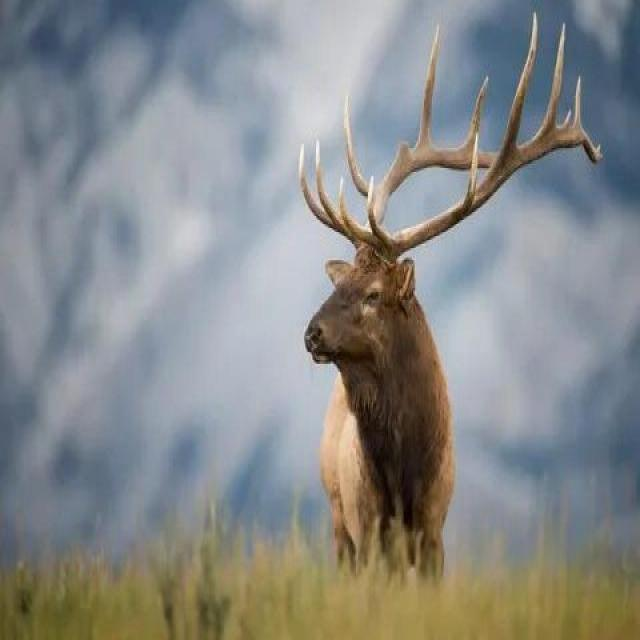deer: (228, 0, 601, 557)
